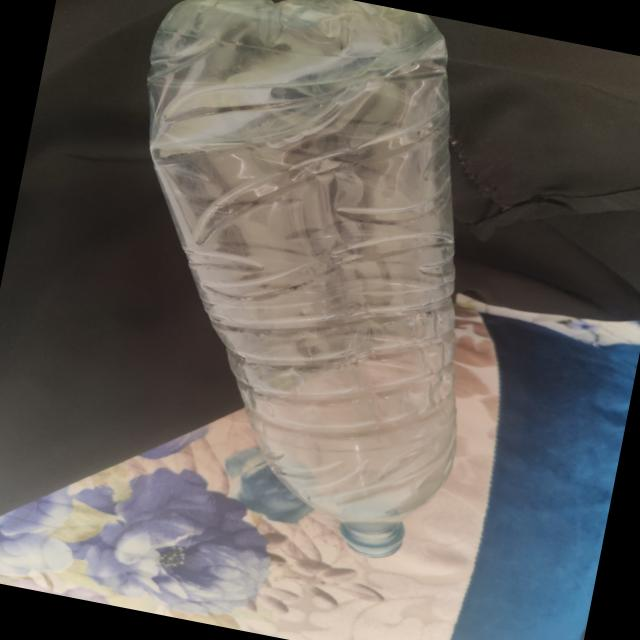plastic: (166, 2, 458, 552)
